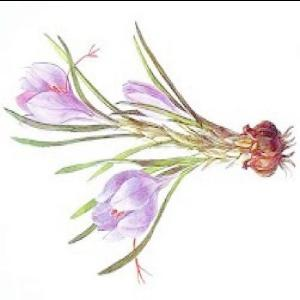Saffron: (92, 164, 170, 242), (16, 60, 100, 128), (120, 76, 184, 116)
